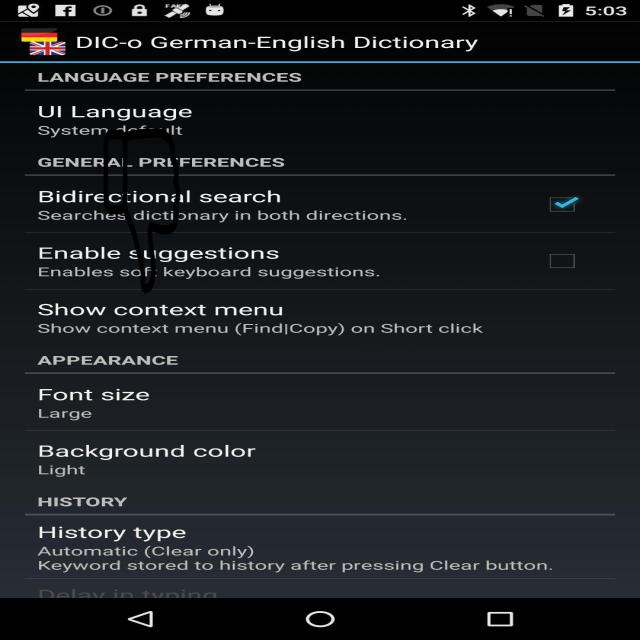obstruction: (102, 128, 182, 294)
